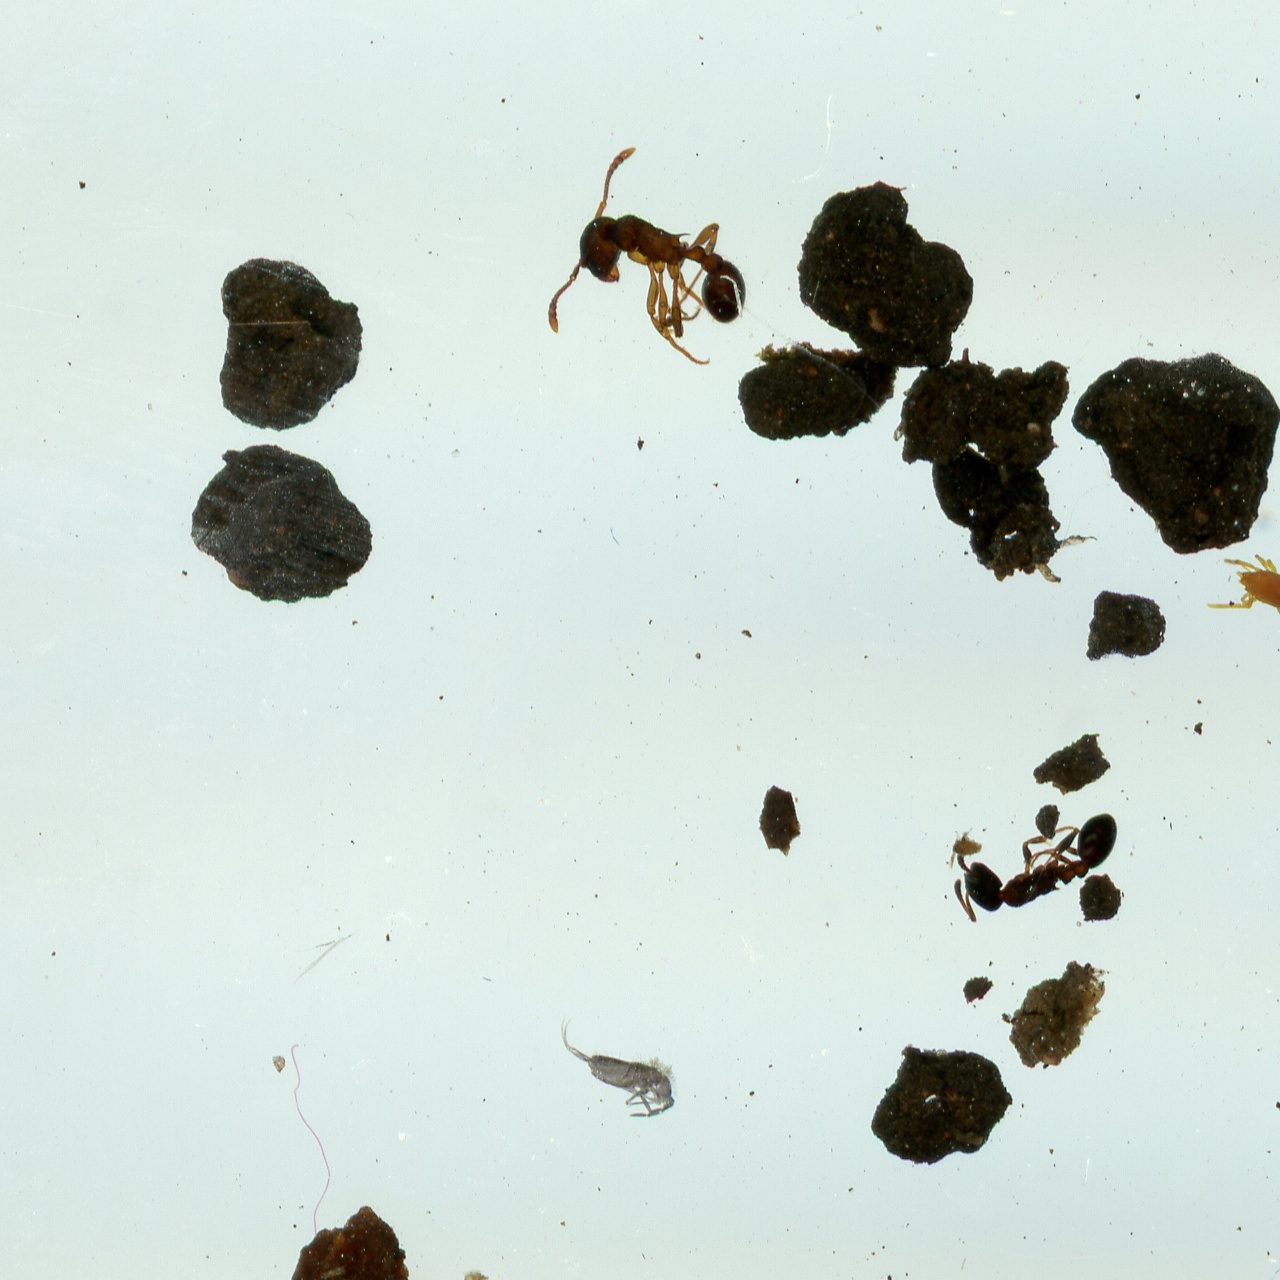arthropod: (498, 129, 797, 425), (934, 782, 1137, 931), (552, 1014, 682, 1123), (1203, 552, 1280, 622)
